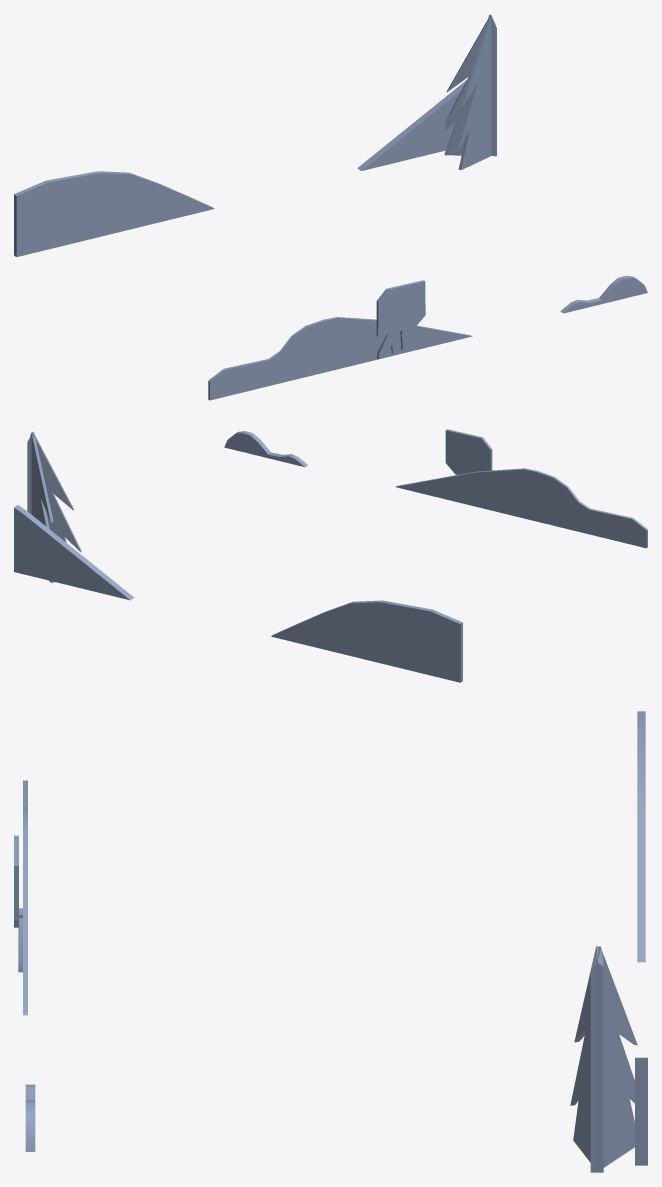
Rendered from frame_0071.glb.
The picture shows the model from 3 angles, top to bottom: view 1: azimuth 30°, elevation 25°; view 2: azimuth 150°, elevation 25°; view 3: azimuth 270°, elevation 25°; orthographic projection. The views are drawn at different scales.
Visible parts, largest first — view 1: export_trees_001.002; view 2: export_trees_001.002; view 3: export_trees_001.002.
Boxes of the visible parts, x1,y1,x2,y2 form: export_trees_001.002: [14, 14, 647, 400]; export_trees_001.002: [14, 429, 647, 682]; export_trees_001.002: [14, 711, 647, 1172].
Size of the model in its own units: 0.4327 by 0.1246 by 0.321.
